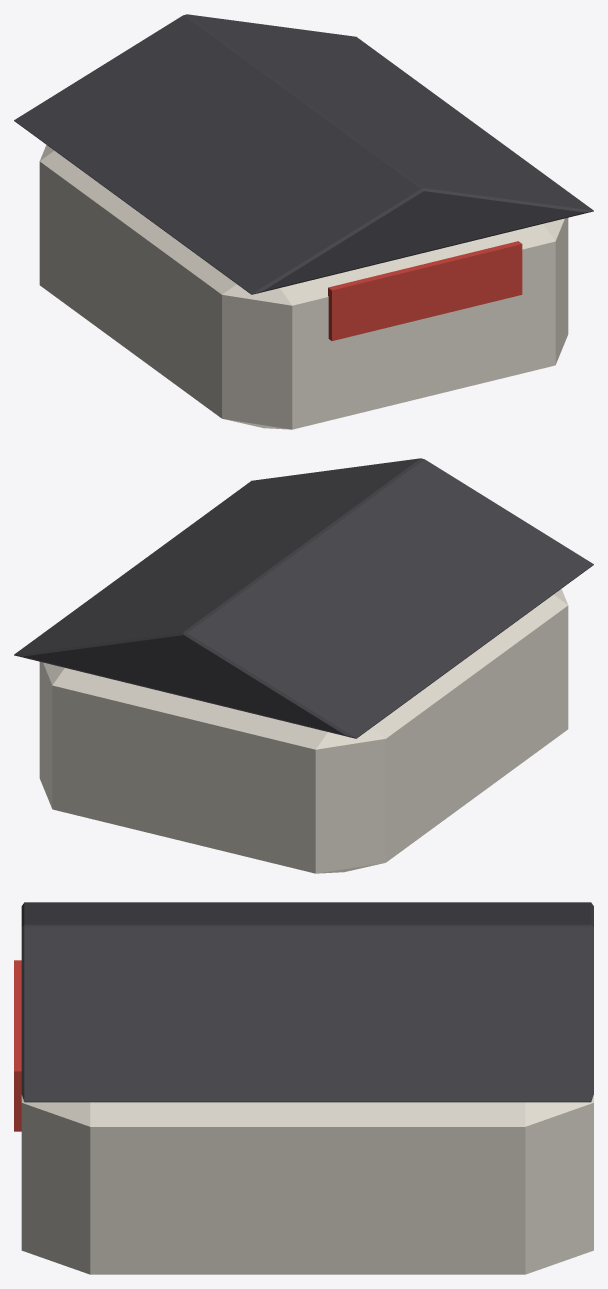
File: dojo.glb
3 renders of one model, top to bottom at view 1: azimuth 30°, elevation 25°; view 2: azimuth 150°, elevation 25°; view 3: azimuth 270°, elevation 25°, orthographic. The views are drawn at different scales.
Visible parts, largest first — view 1: roof, walls, banner; view 2: roof, walls; view 3: roof, walls, banner.
Boxes of the visible parts, <box> form: roof: <box>14,14,593,294</box>; walls: <box>39,145,568,429</box>; banner: <box>328,241,522,340</box>; roof: <box>14,458,593,738</box>; walls: <box>39,589,568,873</box>; roof: <box>21,902,593,1102</box>; walls: <box>21,1095,593,1274</box>; banner: <box>14,960,21,1131</box>.
Bounding box in the file's own units: 10 × 6.28 × 12.16.
